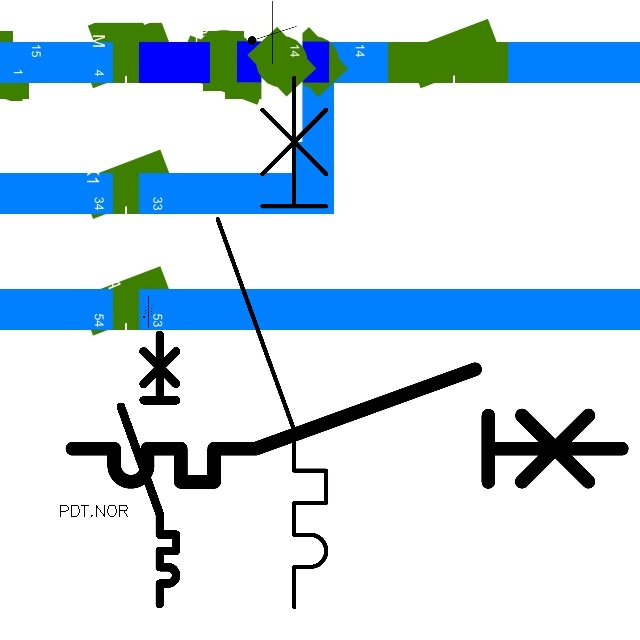interruptor_termomagnetico: (58, 355, 636, 496), (204, 63, 340, 620), (114, 328, 183, 611)
